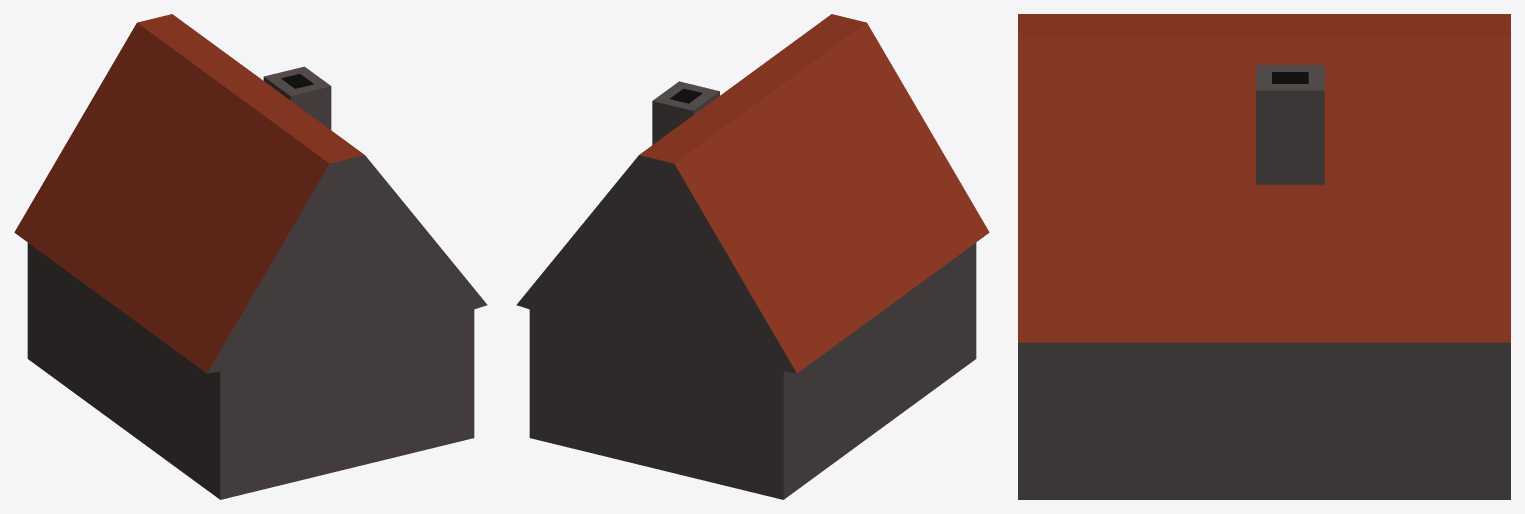
Rendered from house.obj.
3 views of the same model, side by side, from view 1: azimuth 30°, elevation 25°; view 2: azimuth 150°, elevation 25°; view 3: azimuth 270°, elevation 25° (orthographic). The views are drawn at different scales.
Visible parts, largest first — view 1: Cube; view 2: Cube; view 3: Cube.
Boxes of the visible parts, bbox=[...] form: Cube: bbox=[14, 14, 487, 499]; Cube: bbox=[516, 14, 989, 499]; Cube: bbox=[1018, 14, 1510, 499].
Size of the model in its own units: 1.68 by 1.77 by 2.
